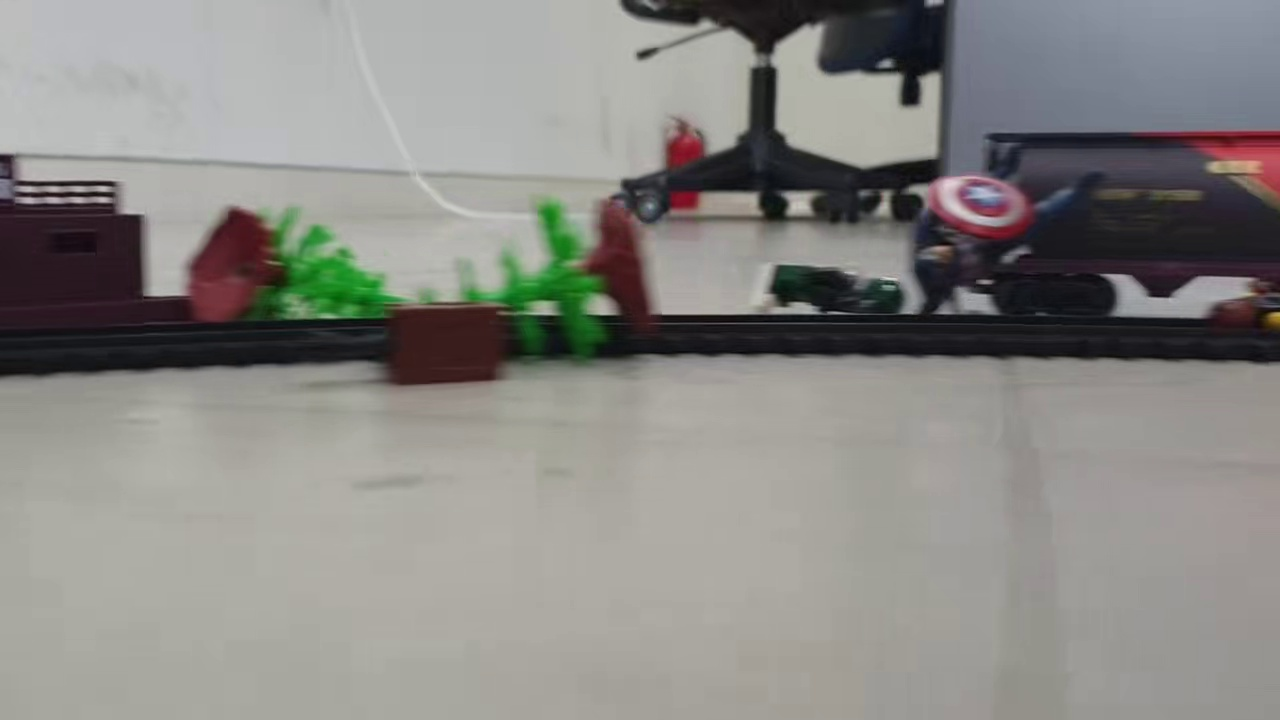box: (381, 303, 509, 387)
people: (911, 146, 1106, 320), (751, 262, 910, 324), (1206, 276, 1280, 330)
tree: (412, 194, 650, 365), (188, 203, 416, 325)
